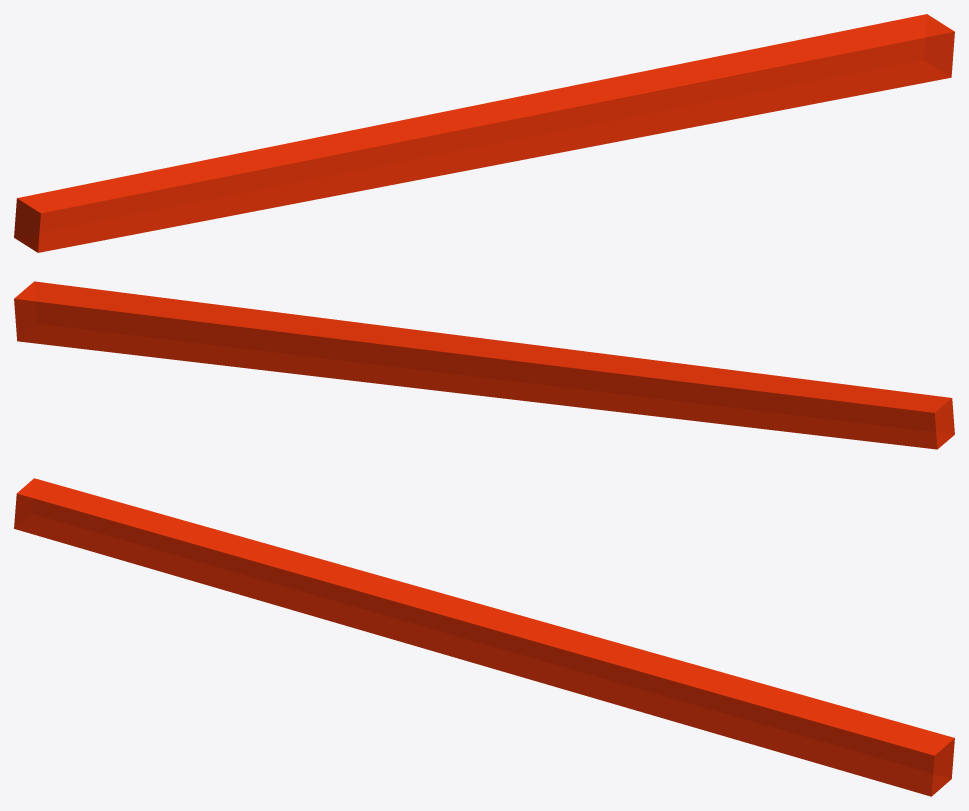
The model's file is Event_421278790_EErechit_64.fbx.
The picture shows the model from 3 angles, top to bottom: view 1: azimuth 30°, elevation 25°; view 2: azimuth 150°, elevation 25°; view 3: azimuth 330°, elevation 25°; orthographic projection. The views are drawn at different scales.
Visible parts, largest first — view 1: Model; view 2: Model; view 3: Model.
Boxes of the visible parts, x1=… form: Model: x1=14, y1=14, x2=954, y2=252; Model: x1=14, y1=281, x2=954, y2=449; Model: x1=14, y1=478, x2=954, y2=796.
Bounding box in the file's own units: 1.87 × 0.2307 × 0.213.
